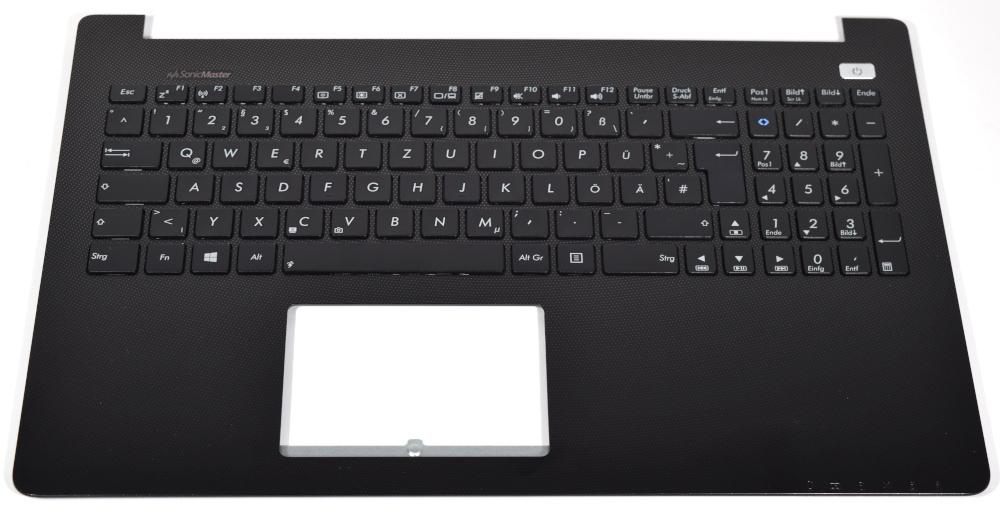0: (539, 105, 577, 135)
1: (148, 105, 186, 135)
2: (191, 104, 230, 134)
3: (234, 104, 273, 135)
4: (278, 105, 316, 135)
5: (322, 105, 360, 135)
6: (365, 104, 403, 135)
7: (409, 104, 447, 135)
8: (452, 105, 490, 135)
9: (495, 105, 534, 135)
a: (174, 171, 213, 203)
accent: (625, 106, 662, 136)
ae: (619, 173, 658, 204)
alt-left: (236, 240, 276, 273)
altgr-right: (508, 240, 551, 274)
b: (375, 205, 414, 236)
c: (283, 205, 324, 237)
caret: (104, 105, 142, 134)
comma: (509, 207, 547, 237)
d: (263, 171, 303, 203)
del: (669, 104, 738, 136)
e: (255, 137, 294, 168)
enter: (694, 137, 744, 202)
f: (308, 171, 347, 202)
g: (352, 171, 392, 202)
h: (398, 171, 437, 202)
hash: (663, 172, 702, 204)
i: (475, 138, 513, 168)
j: (442, 171, 480, 203)
k: (486, 170, 525, 203)
keyboard: (77, 73, 924, 289)
l: (531, 172, 569, 203)
less: (148, 206, 188, 237)
m: (464, 205, 504, 238)
minus: (599, 207, 638, 237)
n: (419, 205, 460, 237)
o: (519, 138, 557, 168)
oe: (575, 172, 614, 203)
p: (563, 138, 600, 169)
plus: (649, 139, 687, 170)
point: (554, 207, 592, 237)
q: (165, 137, 207, 168)
r: (299, 137, 338, 169)
s: (219, 172, 257, 203)
shift-left: (88, 205, 142, 237)
shift-lock: (95, 169, 168, 202)
shift-right: (644, 206, 714, 237)
space: (281, 238, 504, 272)
ss: (582, 106, 620, 136)
strg-left: (86, 239, 140, 273)
strg-right: (602, 241, 683, 273)
t: (344, 138, 380, 168)
tab: (98, 136, 160, 168)
u: (431, 137, 470, 169)
ue: (606, 138, 644, 169)
v: (329, 205, 368, 237)
w: (211, 136, 250, 168)
x: (239, 205, 278, 237)
y: (194, 206, 232, 237)
z: (387, 138, 426, 168)
